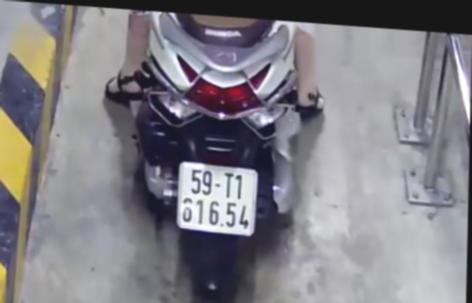License_Plate: (173, 158, 260, 245)
